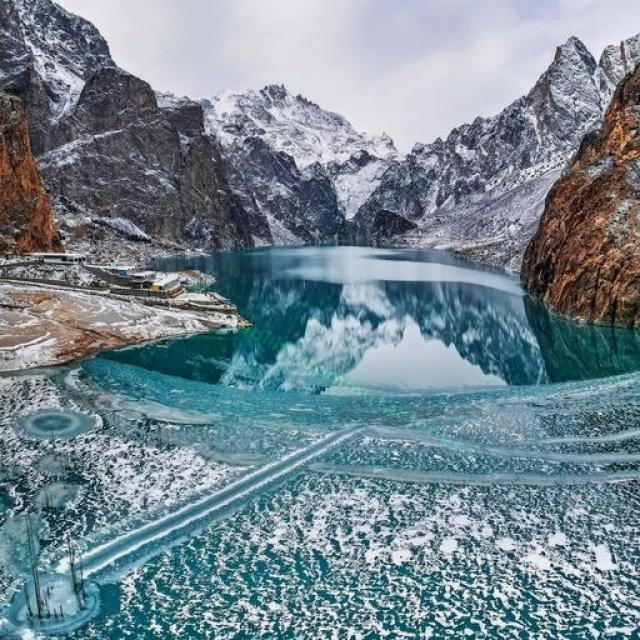watermark: (145, 267, 486, 465)
